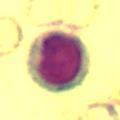lymphocyte: (25, 30, 90, 92)
